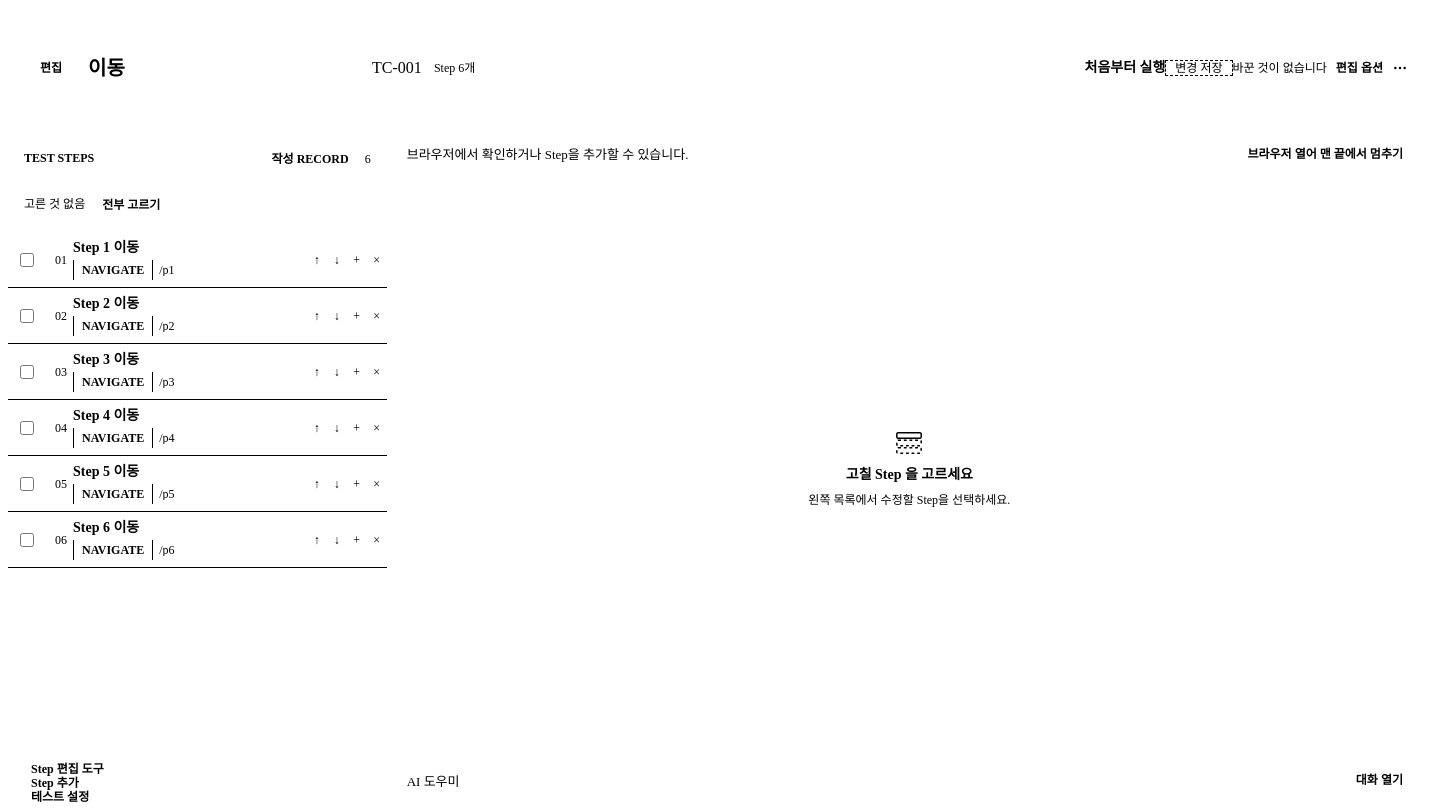
Test: 지우기는 확인을 거친다 (FR-302) › 취소하면 그대로 남는다
Check: the button "Step 1 이동" is shown, box [73,239,289,257]
Click the button "×" in the row of "/p2".
click(377, 316)  # box [367,306,387,326]
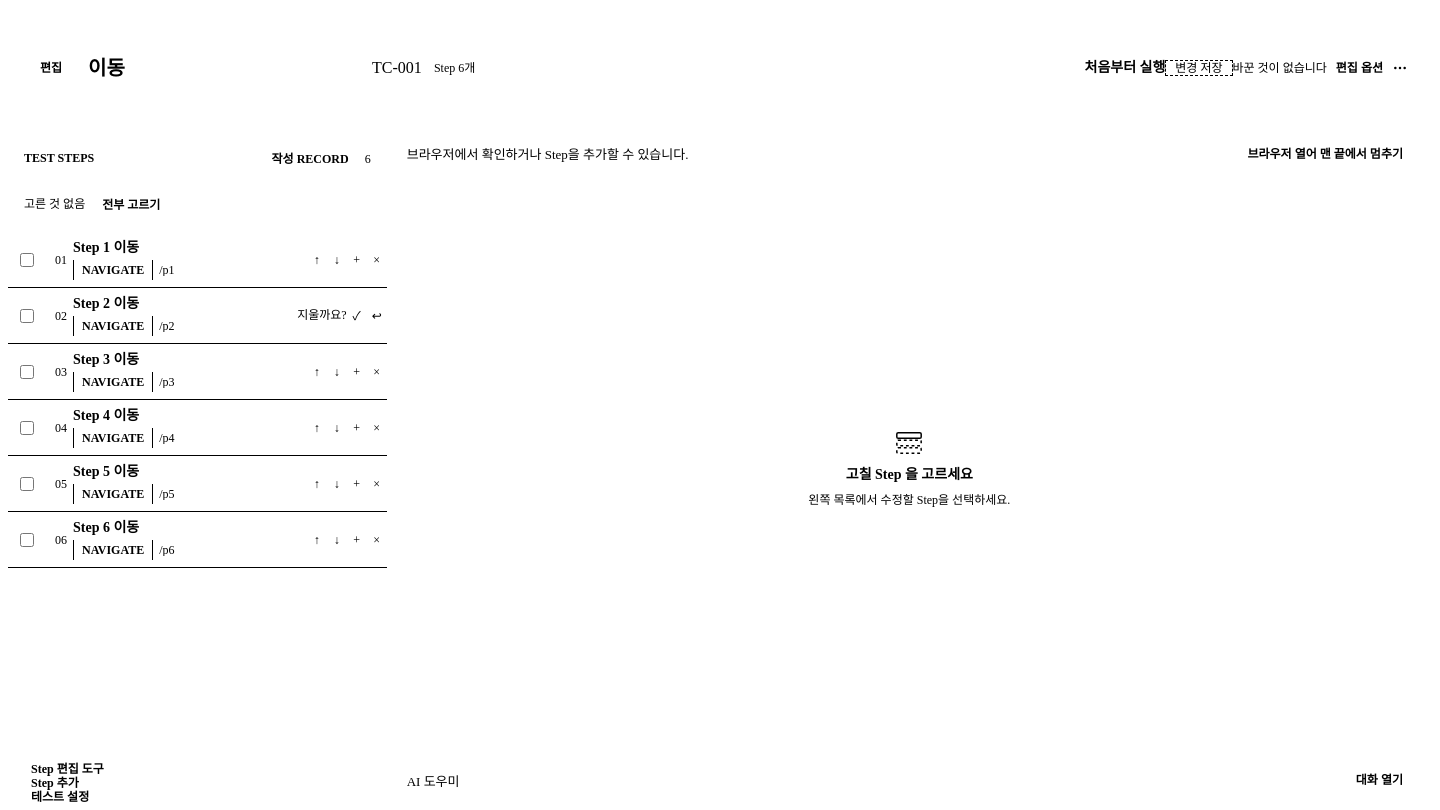
Click the button "↩".
click(377, 316)  # box [367,306,387,326]
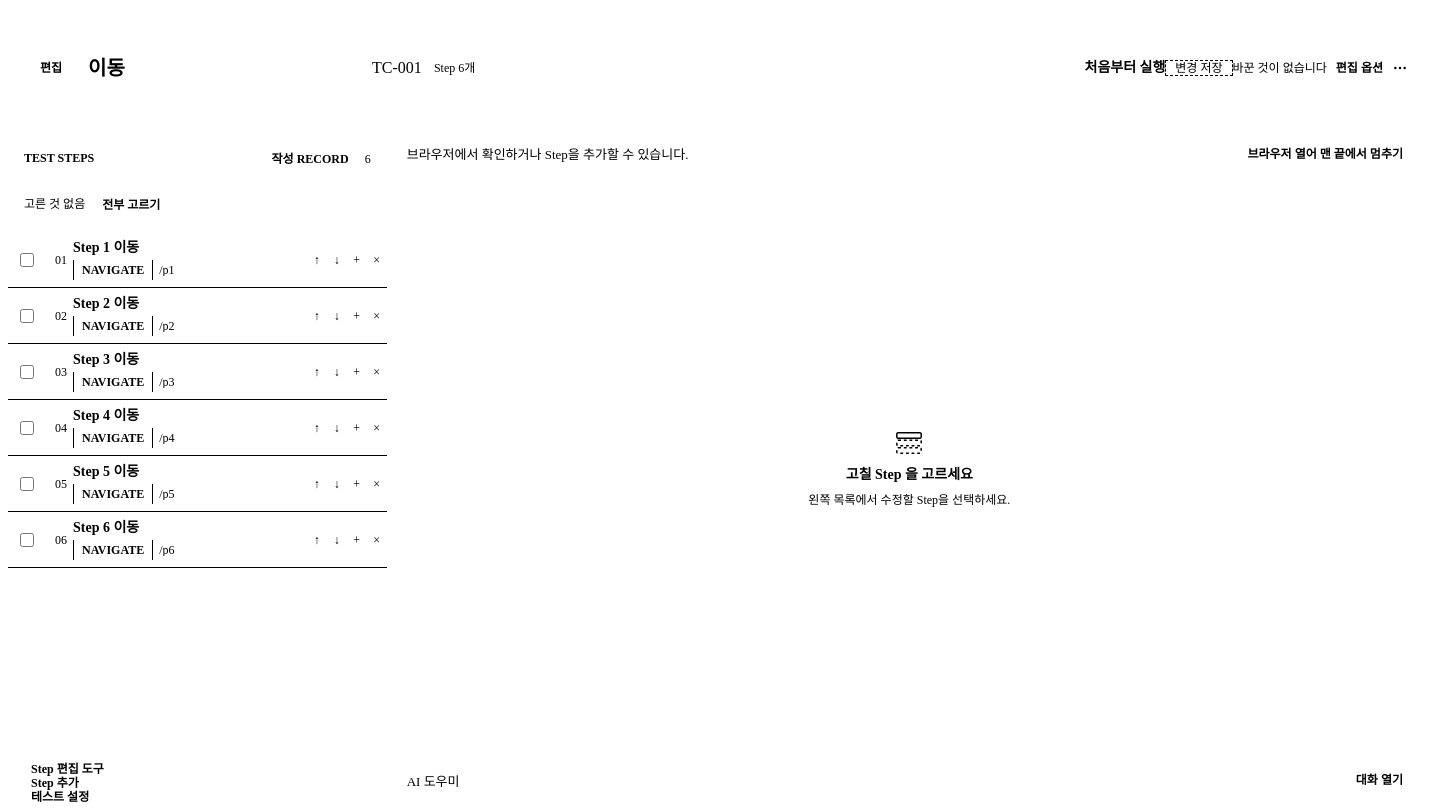
Check: the text "지울까요?" is gone
